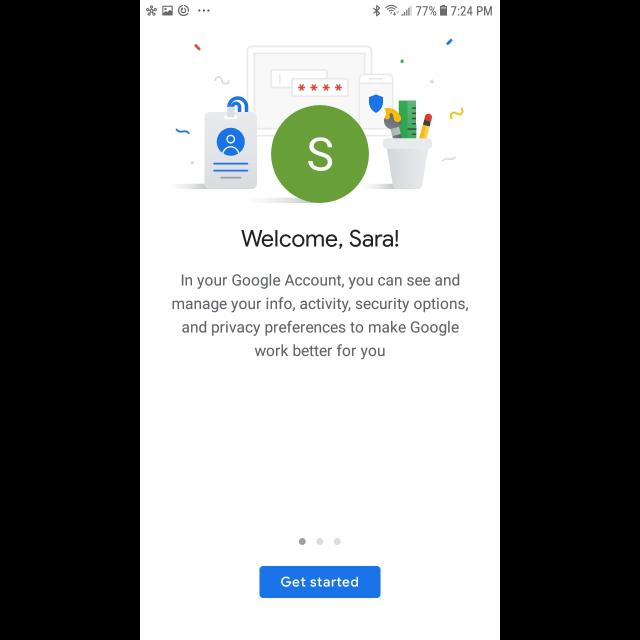image: (172, 38, 464, 204)
pageindicator: (298, 538, 342, 546)
text: (172, 274, 468, 360), (241, 229, 399, 249)
textbutton: (260, 566, 380, 598)
uppertaskbar: (140, 1, 500, 17)
